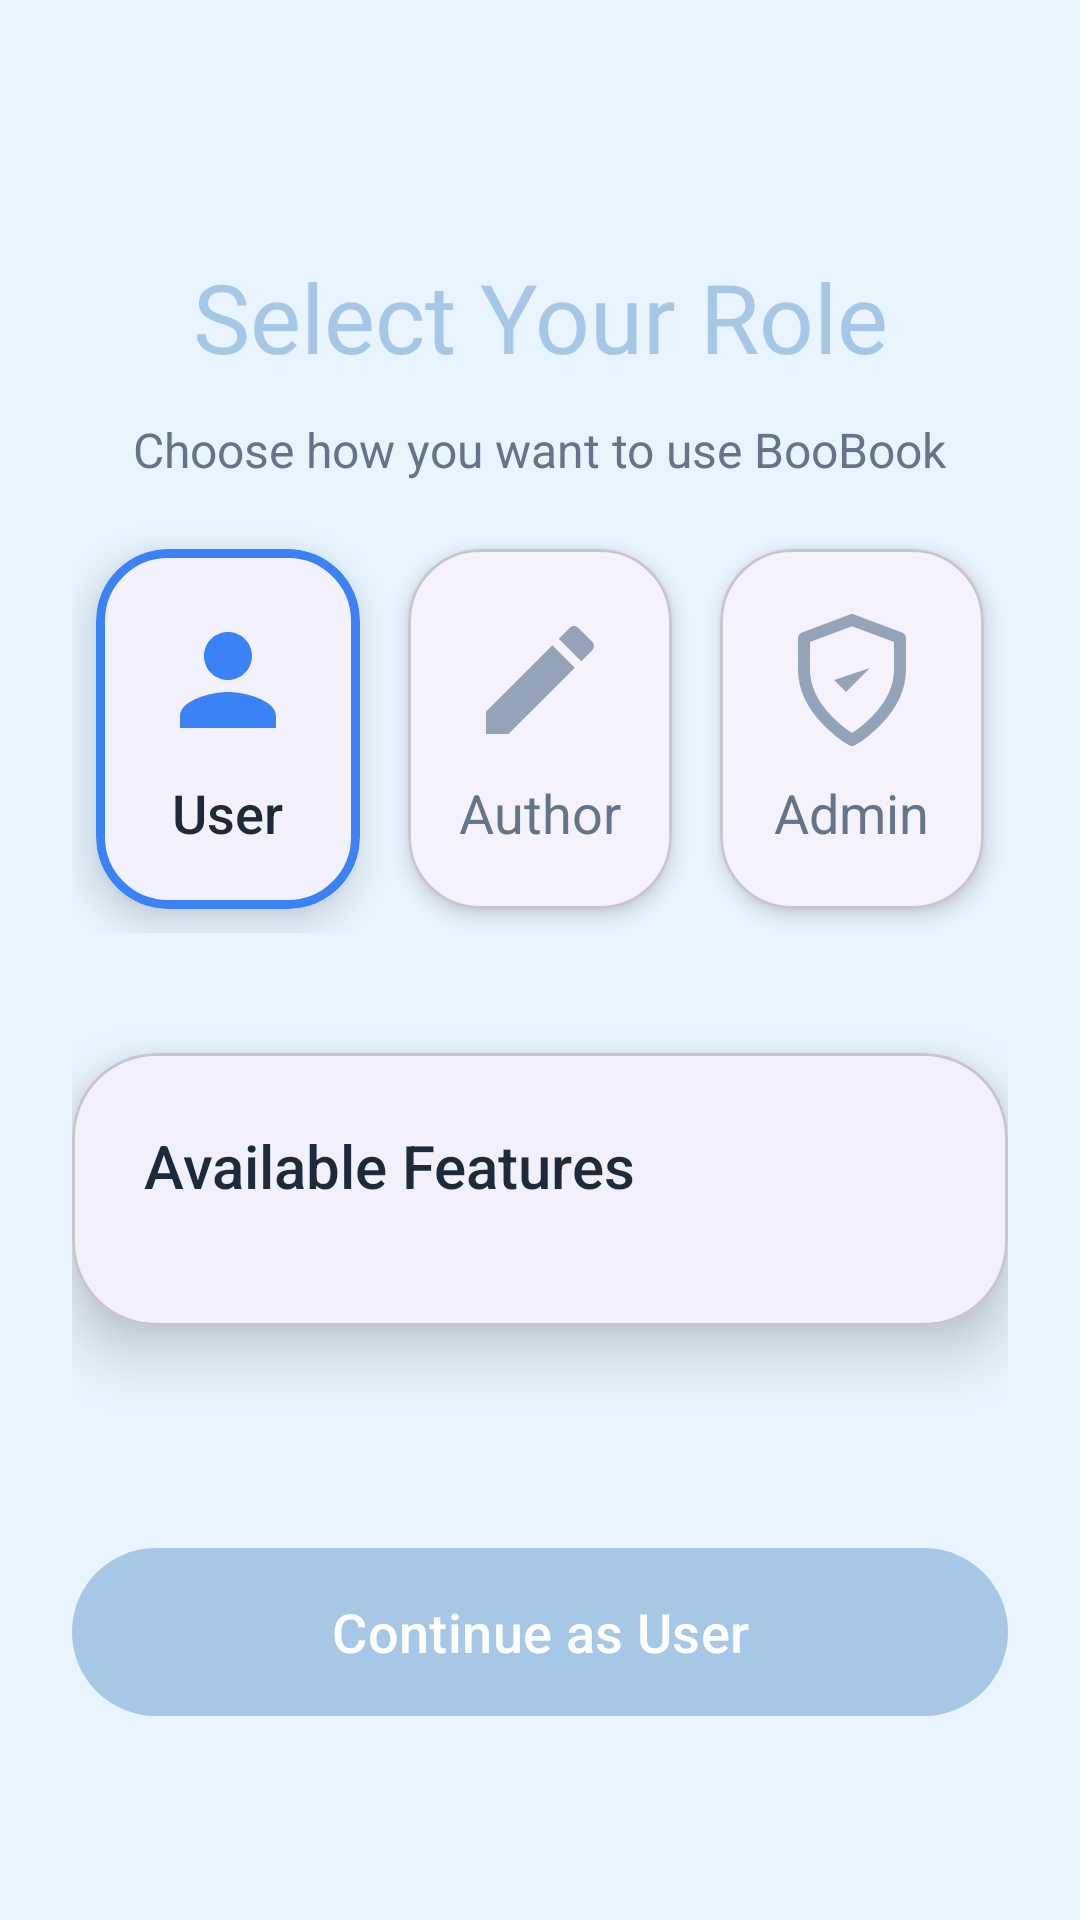

Point at icon controls on the screen. Image size 1080 × 1920, points as (x,y).
edit: (540,680)
person: (228,680)
shield: (852,680)
